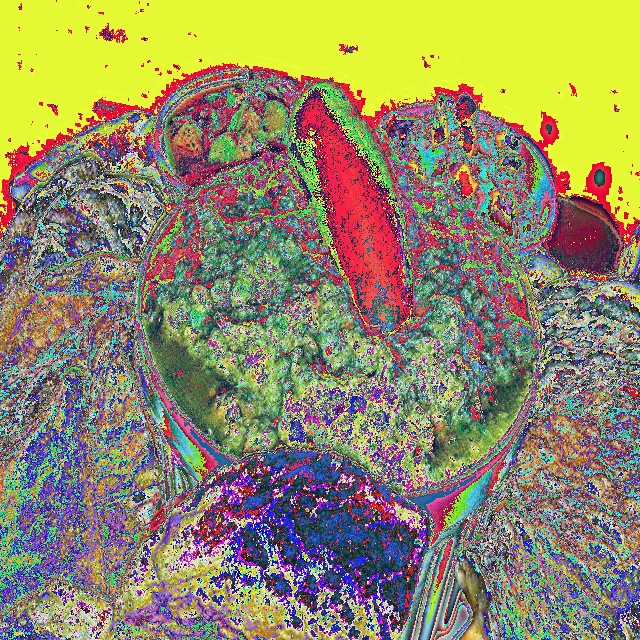background: (0, 73, 640, 639)
